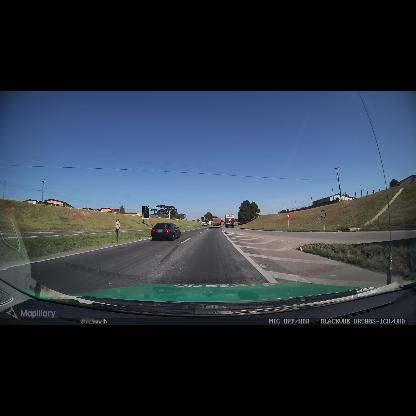R-2: (286, 214, 291, 220)
R-24a: (116, 219, 120, 231), (320, 210, 326, 218)
